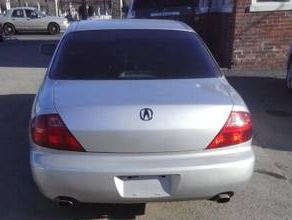acura: (26, 16, 270, 213)
